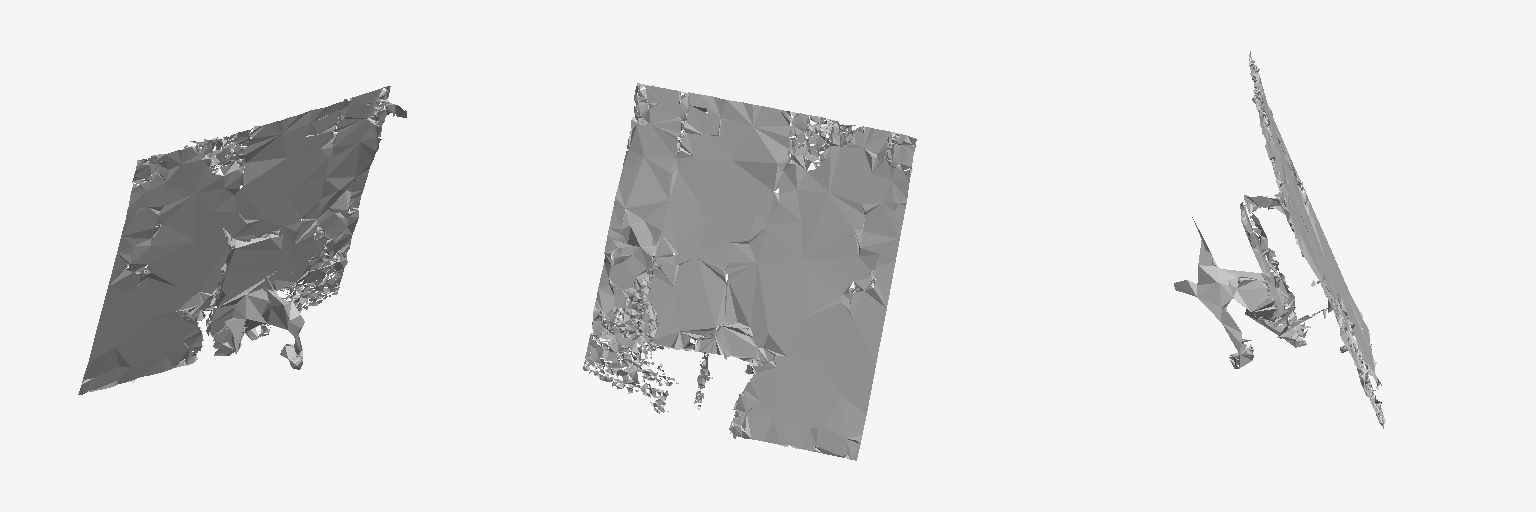
Rendered from sveta-god.obj.
3 renders of one model, left to right at view 1: azimuth 30°, elevation 25°; view 2: azimuth 150°, elevation 25°; view 3: azimuth 270°, elevation 25°, orthographic.
Size of the model in its own units: 2.61 by 2.63 by 1.79.